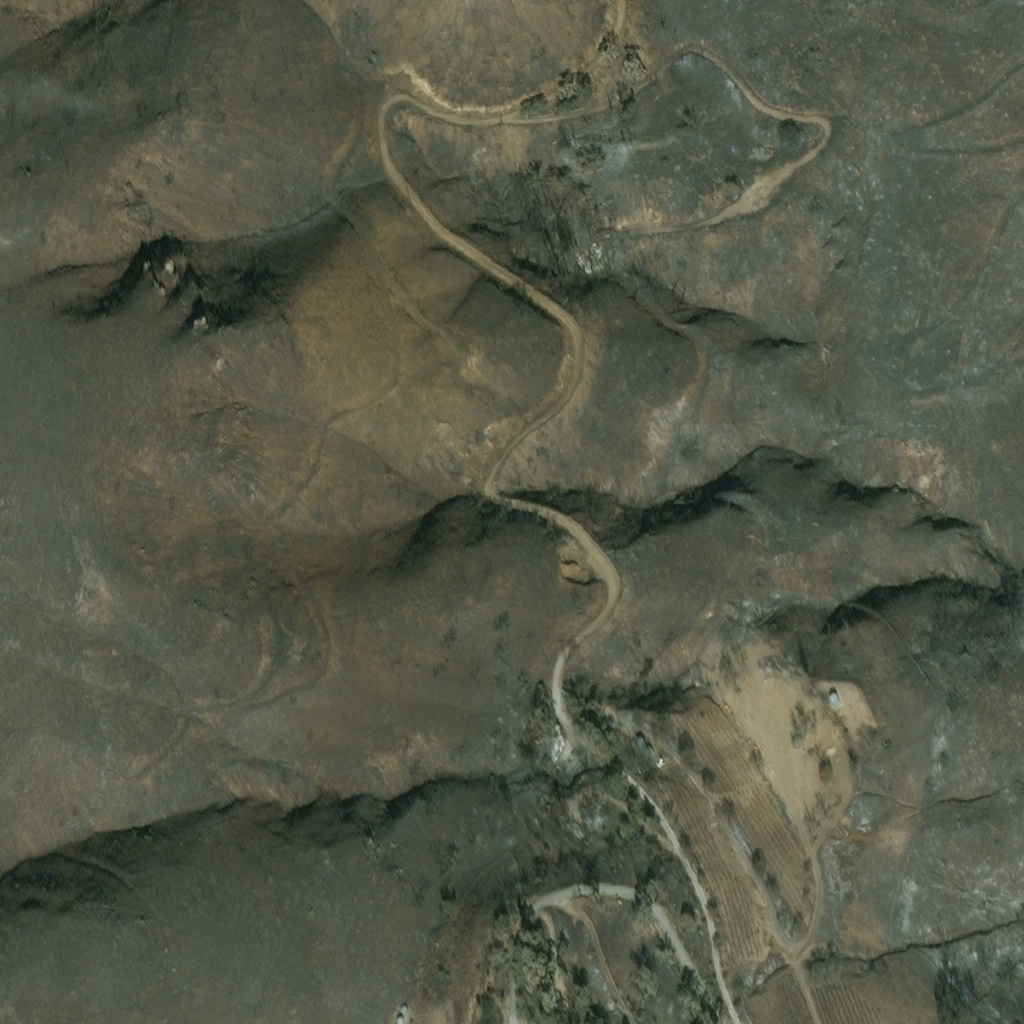1 minor-damage: (829, 696, 841, 708), (399, 1008, 408, 1017)
3 destroyed: (548, 728, 564, 752), (634, 737, 653, 754), (568, 818, 585, 836), (752, 139, 770, 153), (532, 683, 542, 707), (672, 668, 686, 680), (555, 757, 564, 767)
